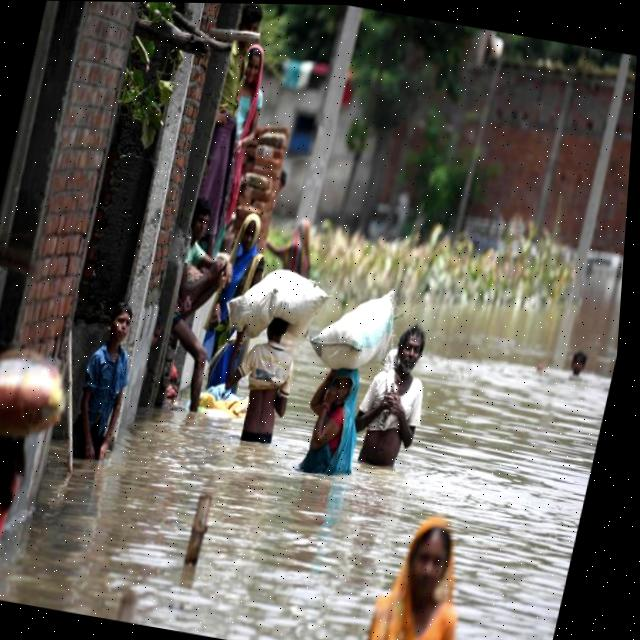civilian: (135, 189, 255, 424), (181, 180, 292, 412), (355, 493, 509, 640), (188, 3, 273, 231), (51, 292, 153, 478), (201, 40, 280, 235), (362, 307, 444, 484), (227, 310, 312, 463), (292, 359, 380, 493), (0, 401, 42, 601), (258, 195, 326, 283), (532, 330, 602, 397)
